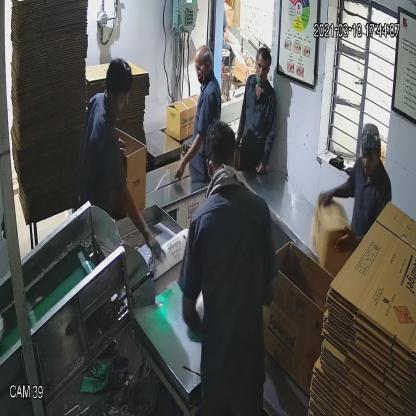no_glove: (109, 168, 167, 268), (168, 121, 206, 190), (254, 118, 278, 185), (312, 174, 356, 208), (332, 218, 363, 256)
